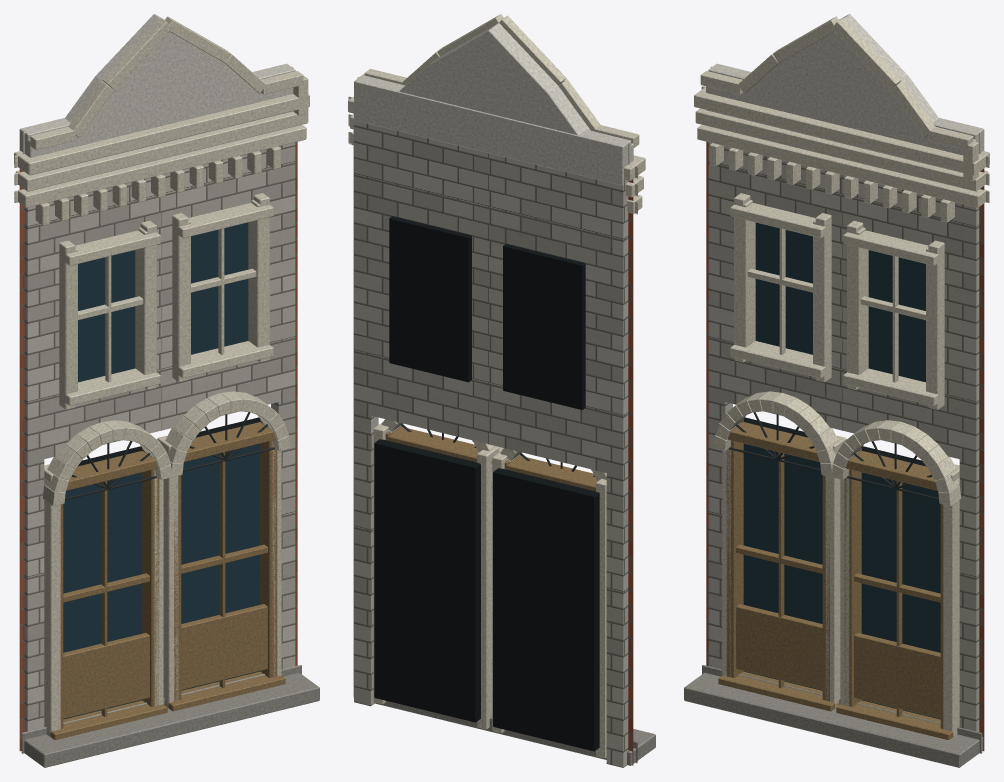
The model's file is CLSTGA11_lod1.glb.
The picture shows the model from 3 angles, left to right: view 1: azimuth 30°, elevation 25°; view 2: azimuth 150°, elevation 25°; view 3: azimuth 330°, elevation 25°; orthographic projection.
Visible parts, largest first — view 1: CLSTGA11_FRONT_LOD1; view 2: CLSTGA11_FRONT_LOD1; view 3: CLSTGA11_FRONT_LOD1.
Boxes of the visible parts, bbox=[...] form: CLSTGA11_FRONT_LOD1: bbox=[14, 14, 319, 767]; CLSTGA11_FRONT_LOD1: bbox=[348, 14, 655, 767]; CLSTGA11_FRONT_LOD1: bbox=[684, 14, 989, 767].
Size of the model in its own units: 3.44 by 8.04 by 0.68.
Materials: 10 (8 with a texture image).
